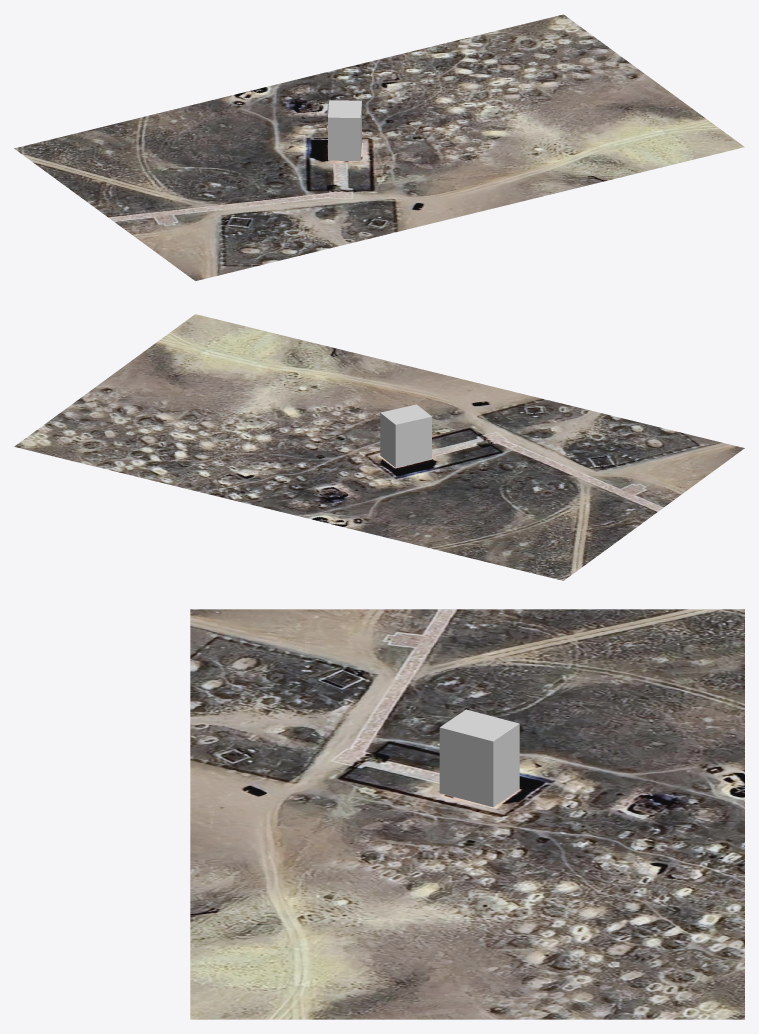
The model's file is MazoleyAlashHana.glb.
3 views of the same model, one above another, from view 1: azimuth 30°, elevation 25°; view 2: azimuth 150°, elevation 25°; view 3: azimuth 270°, elevation 25° (orthographic). The views are drawn at different scales.
Parts seen in each view (by area): view 1: EXPORT_GOOGLE_SAT_WM, Areas:building; view 2: EXPORT_GOOGLE_SAT_WM, Areas:building; view 3: EXPORT_GOOGLE_SAT_WM, Areas:building.
Boxes of the visible parts, x1,y1,x2,y2 form: EXPORT_GOOGLE_SAT_WM: [14, 14, 744, 280]; Areas:building: [328, 100, 361, 160]; EXPORT_GOOGLE_SAT_WM: [14, 314, 744, 580]; Areas:building: [380, 404, 431, 467]; EXPORT_GOOGLE_SAT_WM: [190, 609, 744, 1019]; Areas:building: [439, 709, 519, 807].
Bounding box in the file's own units: 1.22e+07 × 914263 × 9160853.
2 materials, 1 textured.
